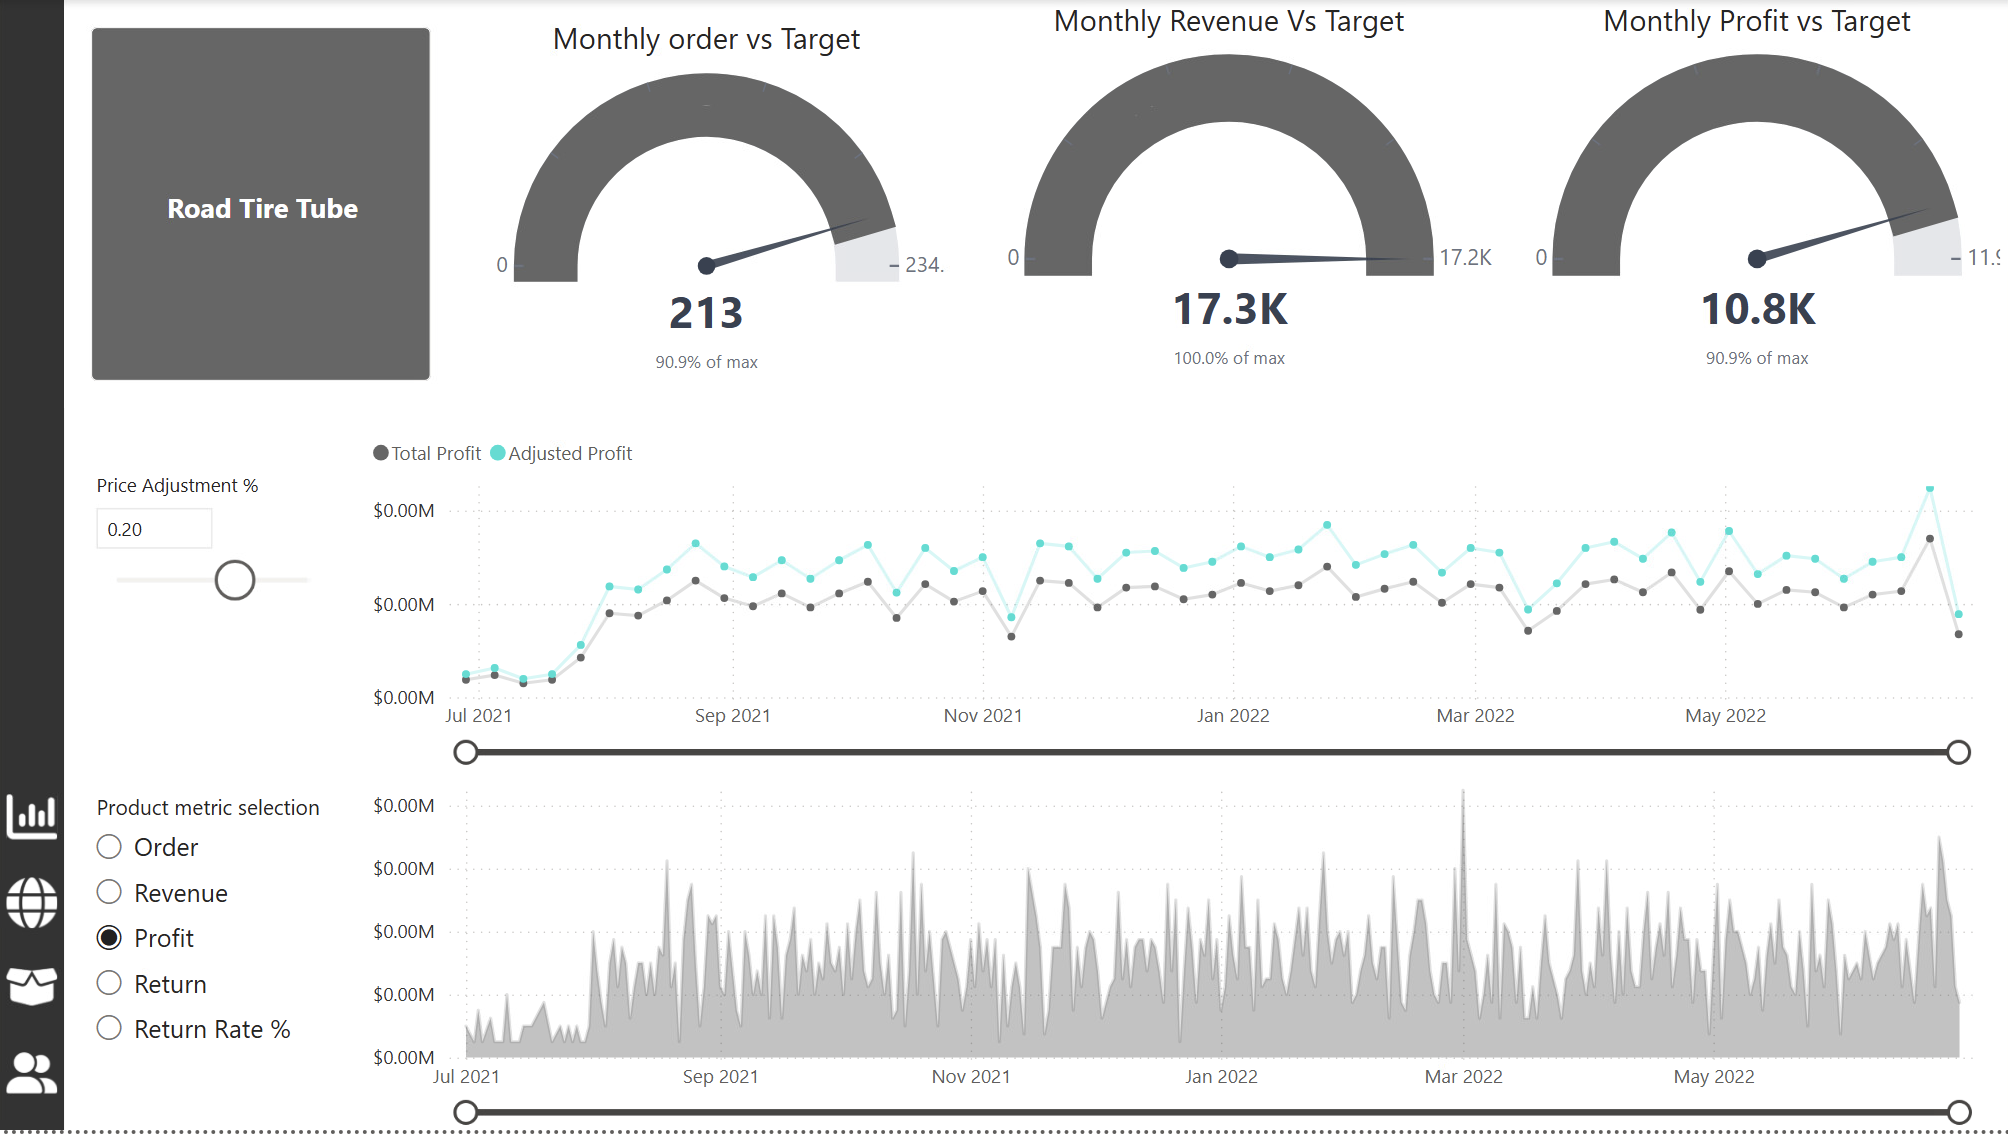

The dashboard page shown, as its layout file describes it:
{"tool":"powerbi","page":{"name":"Product Details","canvas":[1280,720],"ordinal":2},"visuals":[{"type":"shape","box":[0,0,41,720.5],"z":0},{"type":"actionButton","box":[0,547.9,40.7,54.3],"z":0,"group":"g1"},{"type":"briqlabGauge987E35659DC14F58A6C5699632F5E2E8","title":"Monthly order vs Target","fields":{"measure":["Measure Table.Total Order"],"maxValue":["Measure Table.Order Target"]},"box":[292.8,11.7,314.2,249],"z":1000},{"type":"actionButton","box":[0,656.5,40.7,54.3],"z":1000,"group":"g1"},{"type":"briqlabGauge987E35659DC14F58A6C5699632F5E2E8","title":"Monthly Revenue Vs Target","fields":{"measure":["Measure Table.Total Revenue"],"maxValue":["Measure Table.Revenue Target"]},"box":[606.9,0,353.1,260.7],"z":2000},{"type":"actionButton","box":[0,493.6,40.7,54.3],"z":2000,"group":"g1"},{"type":"briqlabGauge987E35659DC14F58A6C5699632F5E2E8","title":"Monthly Profit vs Target","fields":{"measure":["Measure Table.Total Profit"],"maxValue":["Measure Table.Profit Target"]},"box":[960,0,320,260.7],"z":3000},{"type":"actionButton","box":[0,602.2,40.7,54.3],"z":3000,"group":"g1"},{"type":"lineChart","title":"Profits Trending","fields":{"Category":["Calendar Lookup.Date Hierarchy.Start of Year","Calendar Lookup.Date Hierarchy.Start of Month","Calendar Lookup.Date Hierarchy.Start of Week","Calendar Lookup.Date Hierarchy.Date"],"Y":["select","Measure Table.Total Profit","Measure Table.Adjusted Profit"]},"box":[232.5,268.4,1047.5,221.5],"z":4000},{"type":"areaChart","title":"Returns Trending ","fields":{"Y":["select","Measure Table.Total Order"],"Category":["Calendar Lookup.Date Hierarchy.Start of Year","Calendar Lookup.Date Hierarchy.Start of Month","Calendar Lookup.Date Hierarchy.Start of Week","Calendar Lookup.Date Hierarchy.Date"]},"box":[232.3,489.5,1048.1,230.5],"z":5000},{"type":"cardVisual","title":"Selected Product","fields":{"Data":["Min(Product Lookup.ProductName)"]},"box":[40.9,0,251.4,260.4],"z":6000},{"type":"group","id":"g1","title":"Navigation buttons ","box":[0,493.6,40.7,217.2],"z":7000},{"type":"slicer","fields":{"Values":["Price Adjustment %.Price Adjustment %"]},"box":[48.8,295.3,171.1,123.3],"z":8000},{"type":"slicer","fields":{"Values":["Product metric selection .Product metric selection "]},"box":[48.8,500.1,183.5,208.4],"z":9000}]}

Visuals, with their boxes on the page's 1280x720 design canvas (x1, y1, x2, y2). These are canvas units, not pixel positions in the 2008x1136 screenshot, which may show the page scaled, cropped or inside an application window:
shape: Rect(0, 0, 41, 720)
actionButton: Rect(0, 548, 41, 602)
"Monthly order vs Target" briqlabGauge987E35659DC14F58A6C5699632F5E2E8: Rect(293, 12, 607, 261)
actionButton: Rect(0, 656, 41, 711)
"Monthly Revenue Vs Target" briqlabGauge987E35659DC14F58A6C5699632F5E2E8: Rect(607, 0, 960, 261)
actionButton: Rect(0, 494, 41, 548)
"Monthly Profit vs Target" briqlabGauge987E35659DC14F58A6C5699632F5E2E8: Rect(960, 0, 1280, 261)
actionButton: Rect(0, 602, 41, 656)
"Profits Trending" lineChart: Rect(232, 268, 1280, 490)
"Returns Trending " areaChart: Rect(232, 490, 1280, 720)
"Selected Product" cardVisual: Rect(41, 0, 292, 260)
"Navigation buttons " group: Rect(0, 494, 41, 711)
slicer - Price Adjustment %.Price Adjustment %: Rect(49, 295, 220, 419)
slicer - Product metric selection .Product metric selection : Rect(49, 500, 232, 708)
